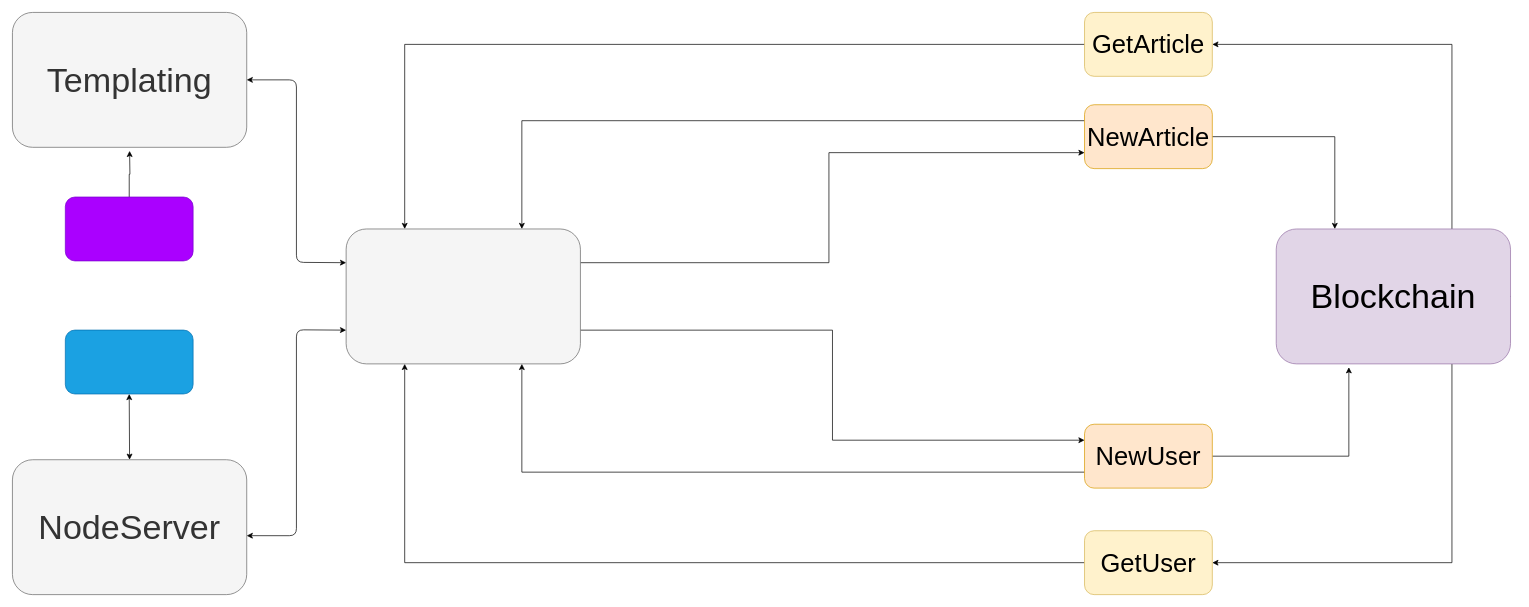
Image size: 1529x607. Some labels were removed from this diagram. Here are the shapes that lost their labels. From the top down, the box of each, then its label:
(65, 196, 193, 261): WebPage
(345, 228, 580, 364): DApp
(65, 329, 193, 394): DB
